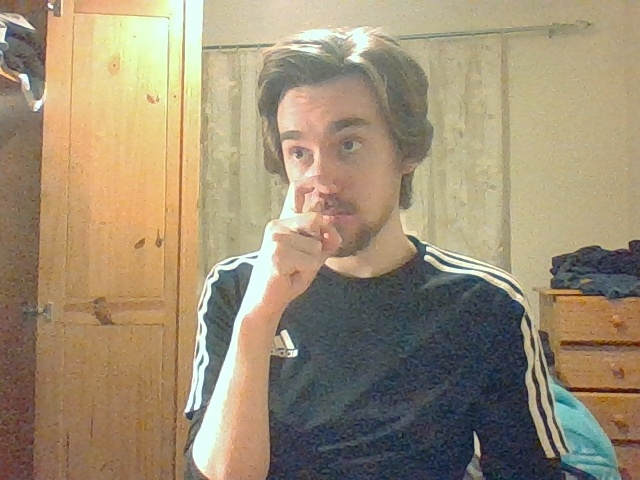sister: (263, 176, 343, 284)
